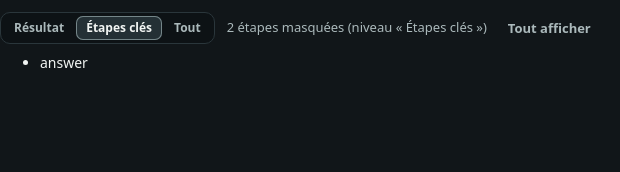
Test: MissionDensityBar › says what the density hides and « Tout afficher » saves the « Tout » density
Check: the list items read "answer", in this order, box 40,53 -> 88,72
Check: the text "2 étapes masquées (niveau « Étapes clés »)" is shown, box 227,18 -> 487,38
Click the button "Tout afficher" at (549,28), box 495,13 -> 604,43
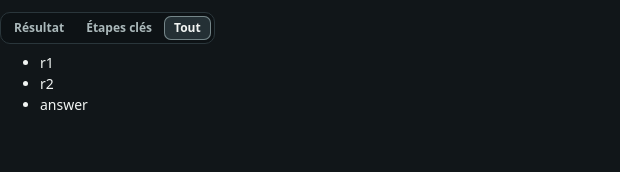
Check: the number of list items is 3, box 40,53 -> 54,72; 40,74 -> 54,93; 40,95 -> 88,114
Check: the text "masquée" is gone
